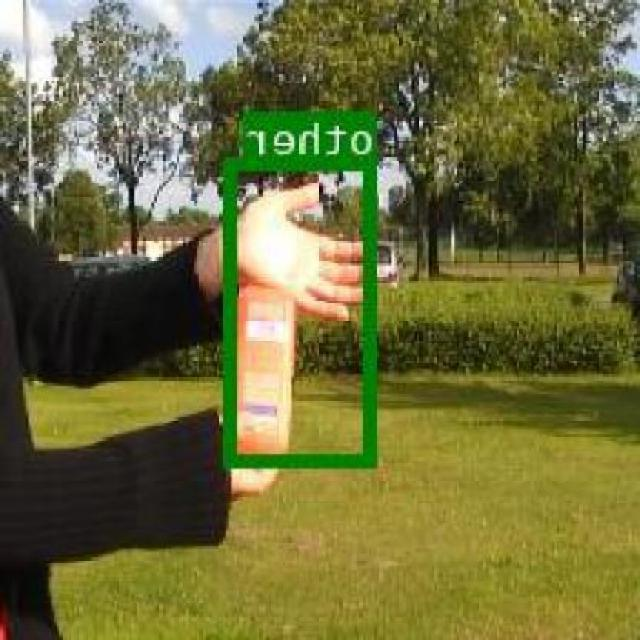other: (226, 154, 379, 463)
